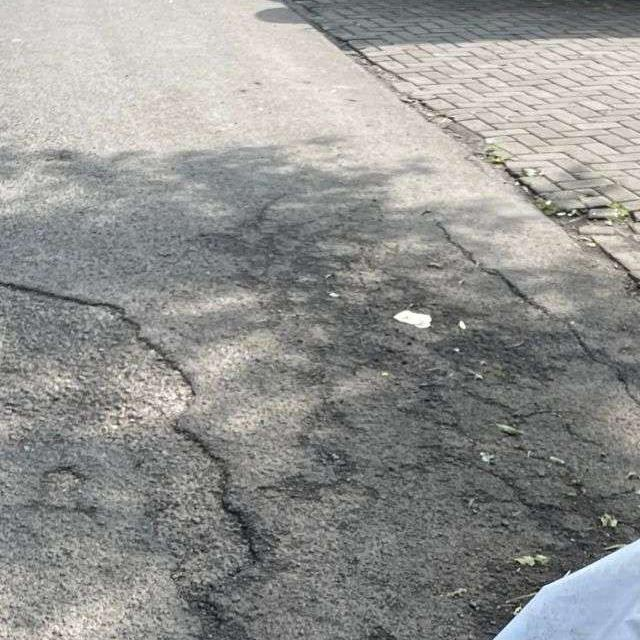retak_memanjang: (446, 226, 640, 486)
